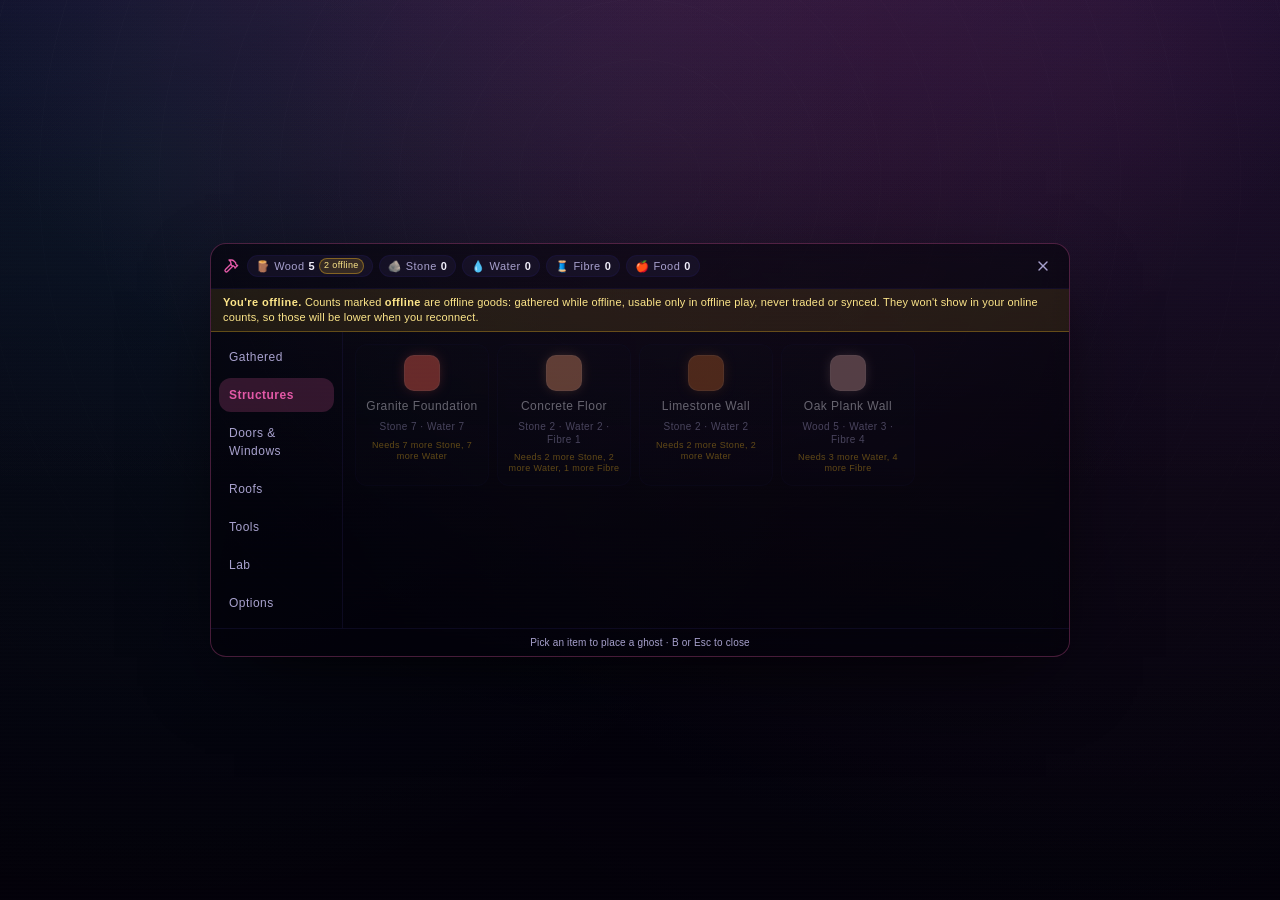
BuilderInventory offline goods › marks offline gathers and says they are offline goods in offline play
Click the tab with test id "inventory-section-gathered" at (276, 357), box x1=219 y1=340 x2=334 y2=374
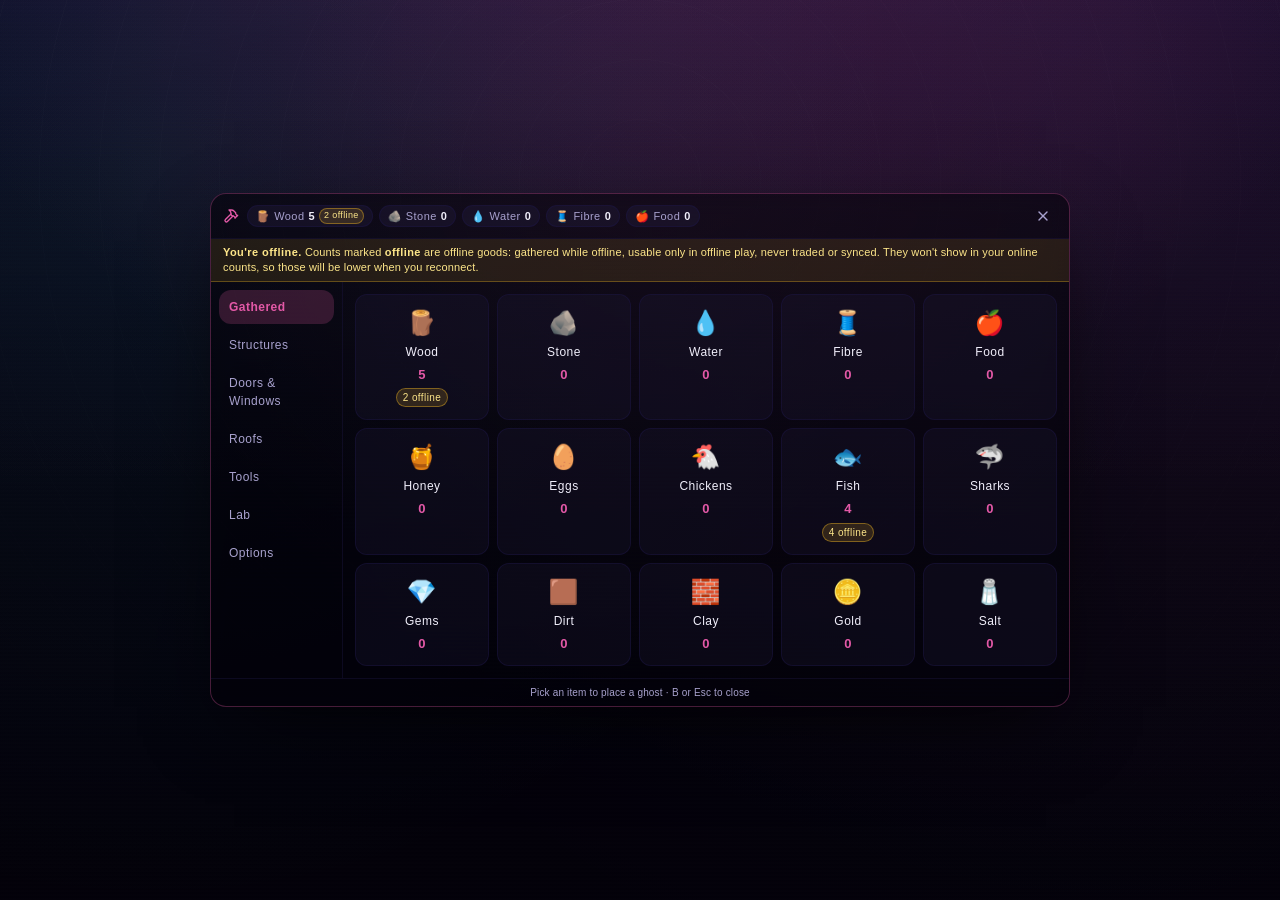
Check: the element with test id "builder-offline-notice" shows "offline goods", box x1=223 y1=246 x2=1038 y2=273
Check: the text with test id "gathered-offline-wood" reads "2 offline", box x1=396 y1=388 x2=448 y2=407
Check: the text with test id "gathered-offline-fish" reads "4 offline", box x1=822 y1=523 x2=874 y2=542
